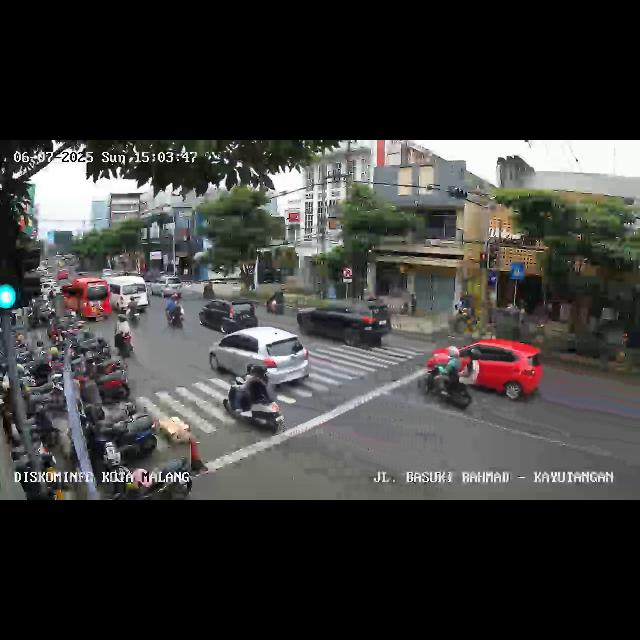car: (428, 336, 548, 404), (208, 326, 310, 390), (298, 297, 386, 348), (60, 278, 110, 322), (198, 298, 258, 334), (108, 276, 148, 318), (148, 274, 184, 300)
motorcycle: (224, 362, 284, 436), (418, 346, 478, 412), (114, 314, 134, 358), (166, 293, 186, 331), (267, 289, 287, 315)
